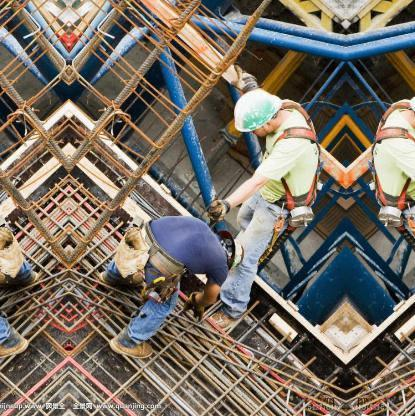helmet: (231, 86, 283, 137), (219, 224, 244, 271)
